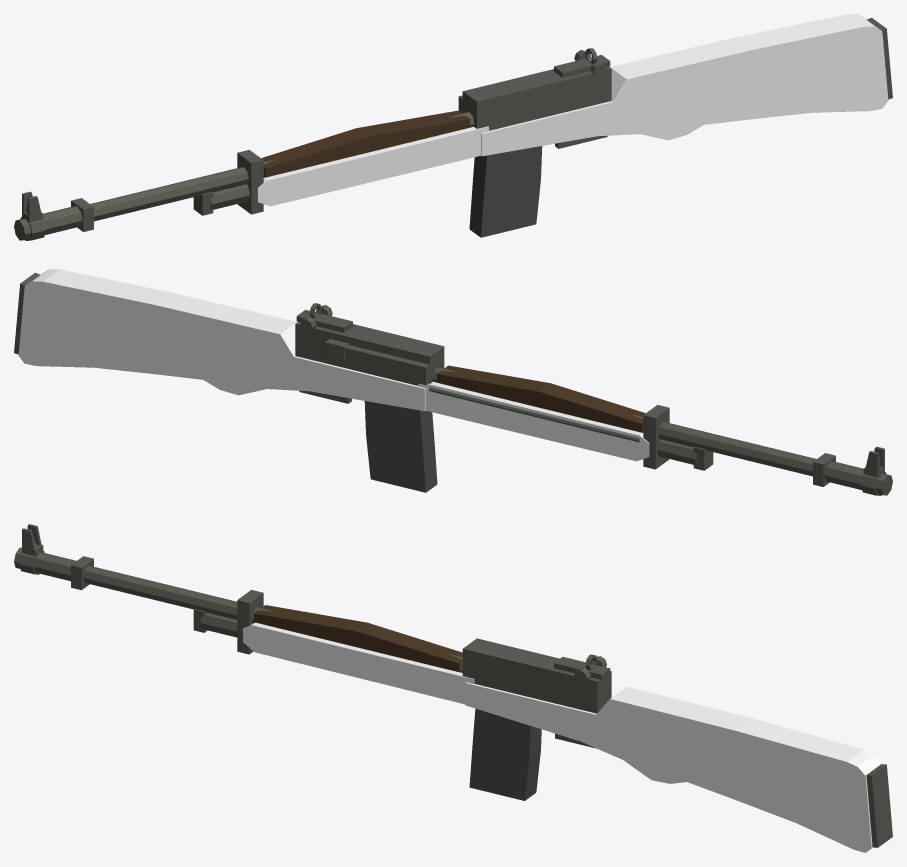
The picture shows the model from 3 angles, top to bottom: view 1: azimuth 30°, elevation 25°; view 2: azimuth 150°, elevation 25°; view 3: azimuth 330°, elevation 25°; orthographic projection.
Visible parts, largest first — view 1: M14; view 2: M14; view 3: M14.
Boxes of the visible parts, x1,y1,x2,y2 form: M14: (14,14,892,240); M14: (14,269,892,495); M14: (14,524,892,852).
Bounding box in the file's own units: 1.12 × 0.1933 × 0.0492.
